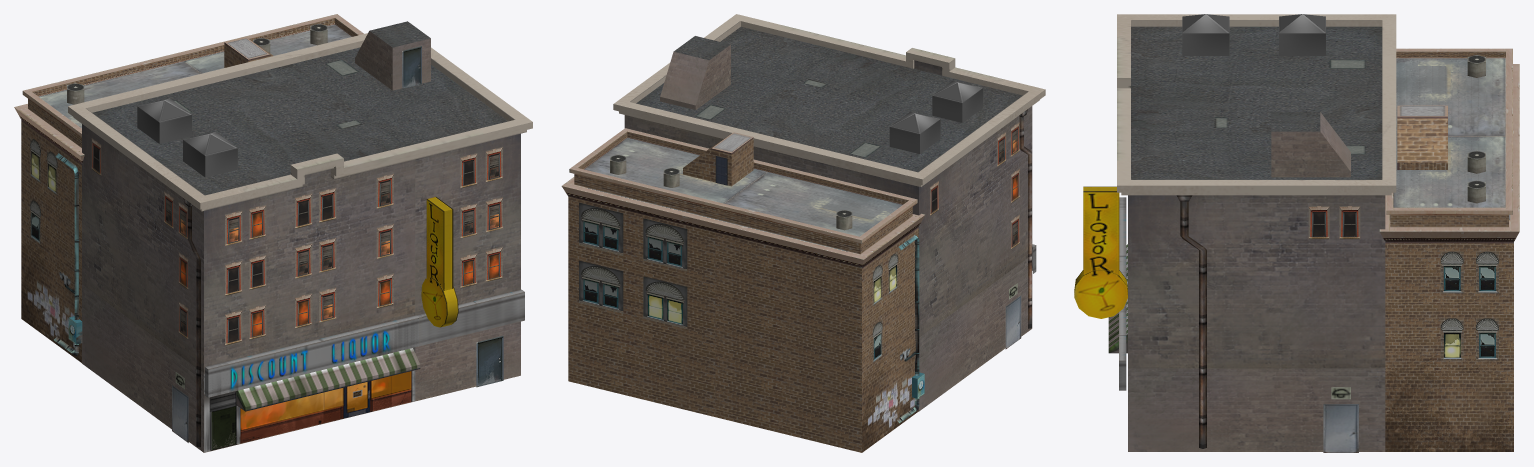
3 views of the same model, side by side, from view 1: azimuth 30°, elevation 25°; view 2: azimuth 150°, elevation 25°; view 3: azimuth 270°, elevation 25° (orthographic). The views are drawn at different scales.
Visible parts, largest first — view 1: pCube21_FillerBuildings1_0; view 2: pCube21_FillerBuildings1_0; view 3: pCube21_FillerBuildings1_0.
Part boxes in pixels (x1,y1,x2,y2): pCube21_FillerBuildings1_0: (14, 14, 532, 452); pCube21_FillerBuildings1_0: (561, 14, 1045, 452); pCube21_FillerBuildings1_0: (1074, 14, 1519, 452).
Size of the model in its own units: 9.45 by 7.95 by 10.39.
2 materials, 2 textured.
